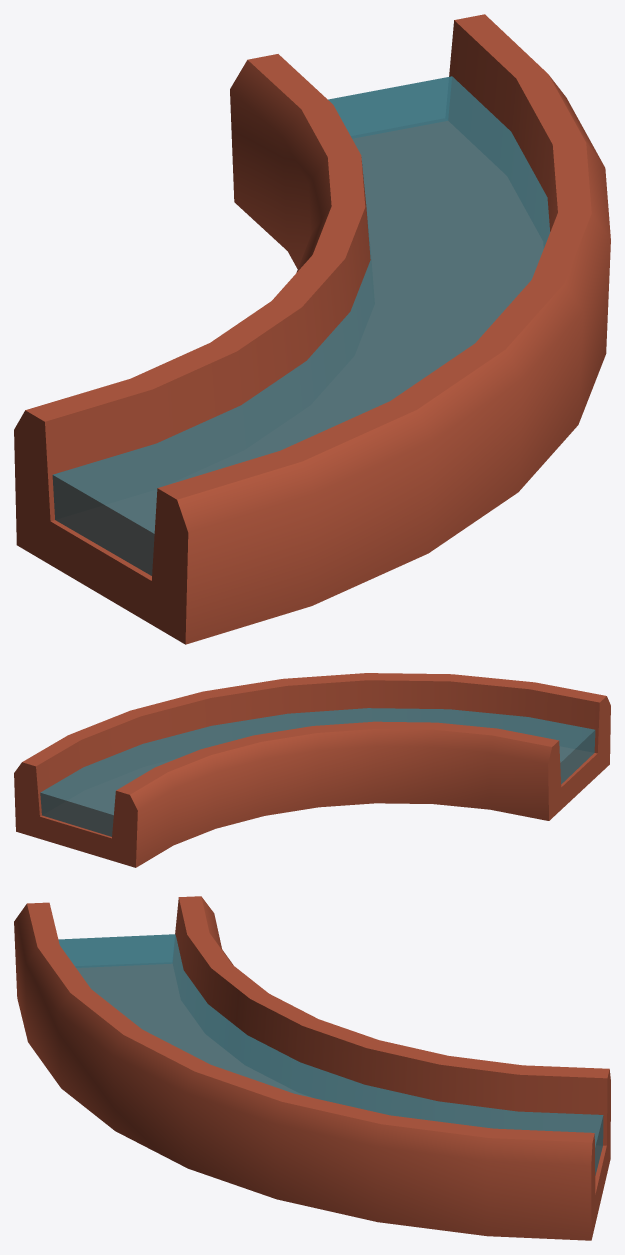
Rendered from deco_irrigation_curve.fbx.
3 views of the same model, one above another, from view 1: azimuth 30°, elevation 25°; view 2: azimuth 150°, elevation 25°; view 3: azimuth 270°, elevation 25° (orthographic). The views are drawn at different scales.
Parts seen in each view (by area): view 1: Irrigation_Curve_Trough, Irrigation_Curve_Water; view 2: Irrigation_Curve_Trough, Irrigation_Curve_Water; view 3: Irrigation_Curve_Trough, Irrigation_Curve_Water.
Part boxes in pixels (x1=…): Irrigation_Curve_Trough: x1=14, y1=14, x2=610, y2=644; Irrigation_Curve_Water: x1=52, y1=76, x2=550, y2=575; Irrigation_Curve_Trough: x1=14, y1=673, x2=610, y2=867; Irrigation_Curve_Water: x1=40, y1=708, x2=595, y2=836; Irrigation_Curve_Trough: x1=14, y1=896, x2=610, y2=1240; Irrigation_Curve_Water: x1=58, y1=934, x2=603, y2=1175.
Bounding box in the file's own units: 184 × 32 × 184.
